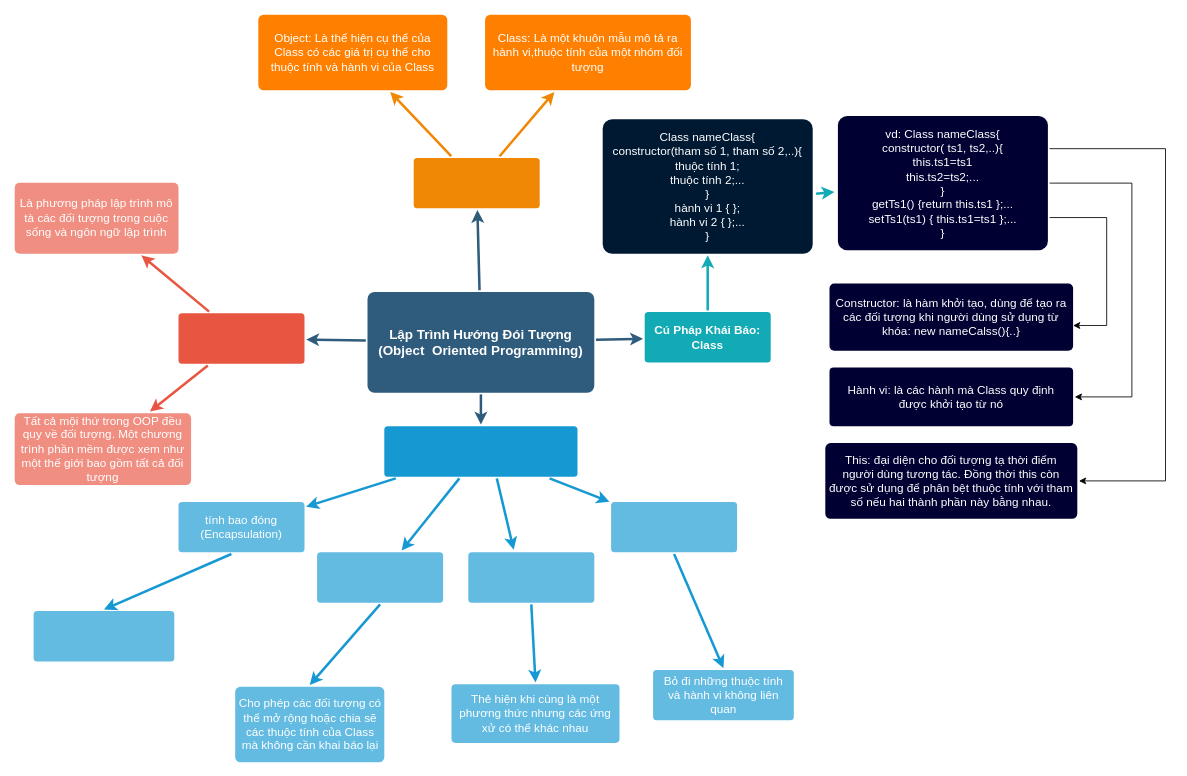
Some shapes in this 1187 by 776 pixel diagram are drawn without their labels. The centre of each missing label's shape, as x and y in pixels:
1.Khái Niệm: the point at 241,338
Các tính chất đặt trung của OOP (: the point at 480,451
Khả năng che dấu một vài thông tin của đối tượng: the point at 103,636
Object và Class: the point at 476,183
tính kế thừa (Inheritance): the point at 380,577
tính trừu tượng (Abstraction): the point at 674,526
tính đa hình (Polymophism): the point at 531,577
